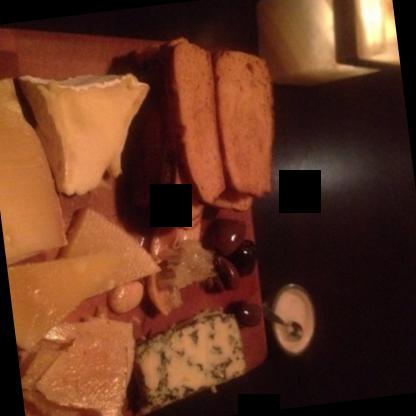toast bread: (158, 36, 233, 206), (206, 44, 284, 198)
